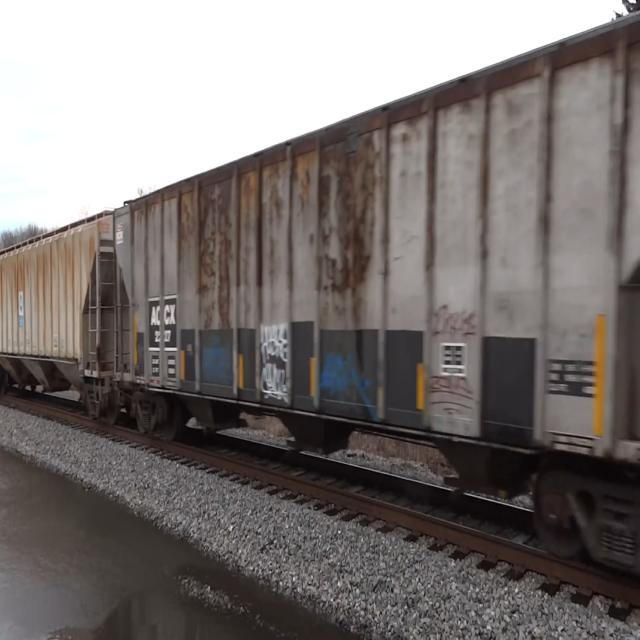hopper: (114, 12, 640, 510), (0, 196, 112, 418)
